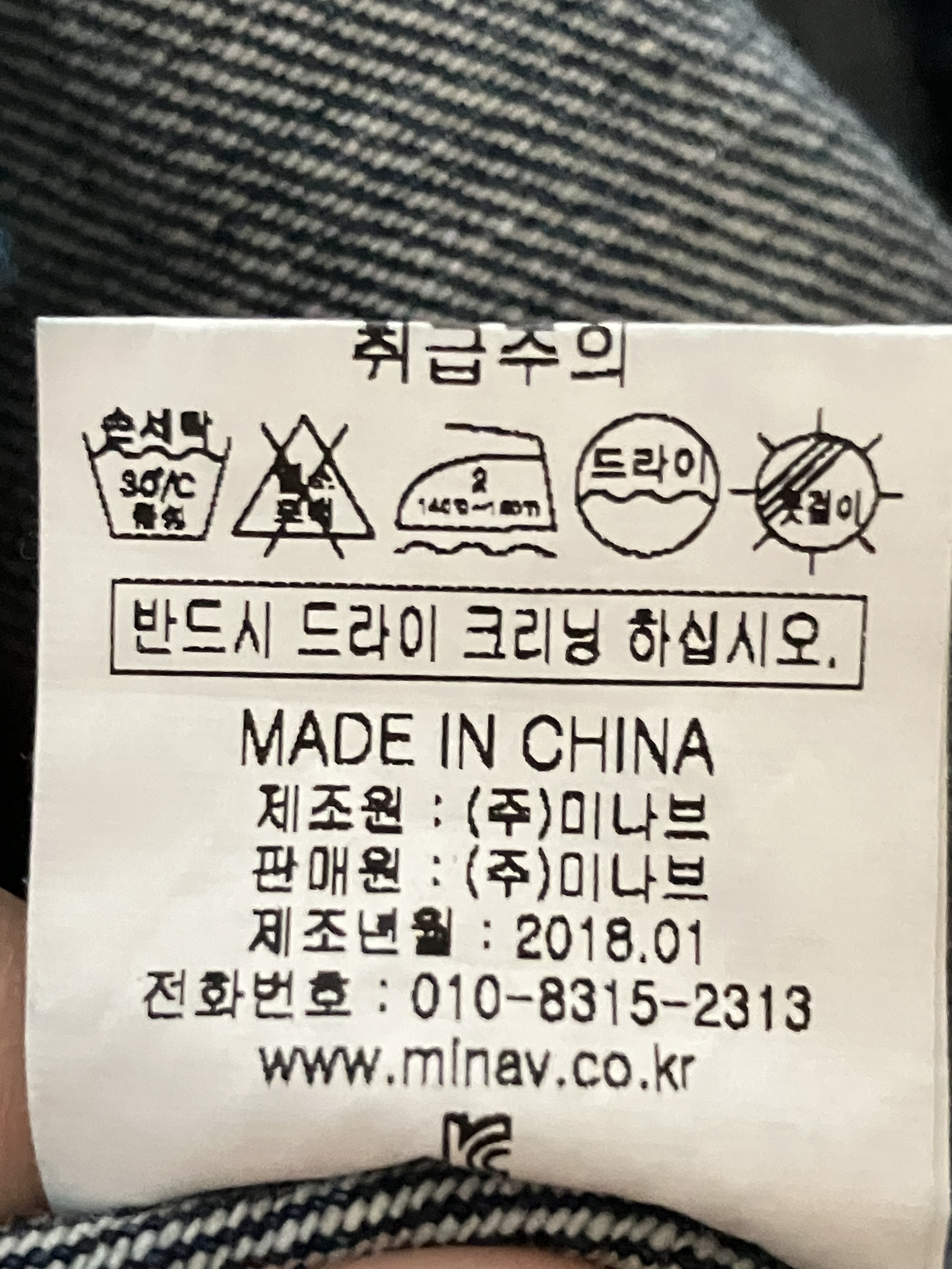KR_dry_clean: (569, 405, 733, 572)
KR_hand_wash_30_neutral: (76, 399, 235, 554)
KR_hang_dry_in_shade: (738, 416, 902, 569)
KR_iron_medium_temp_with_cloth: (382, 401, 562, 581)
KR_no_chlorine_bleach: (231, 413, 376, 561)
